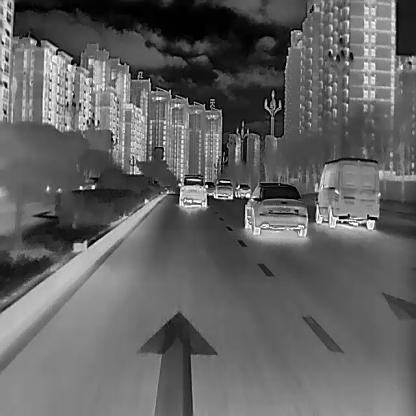car: (313, 157, 378, 229), (242, 181, 307, 237), (177, 172, 207, 207), (212, 176, 233, 199), (233, 183, 251, 197), (204, 181, 215, 195)
